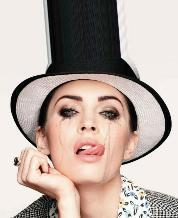face: (57, 95, 121, 162)
